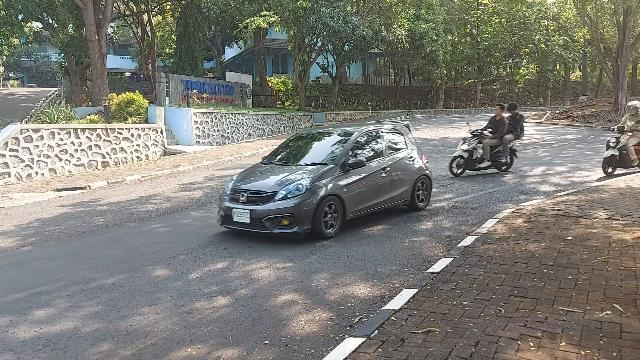motor: (451, 123, 519, 177)
non-helm: (508, 104, 518, 117), (496, 104, 506, 116)
